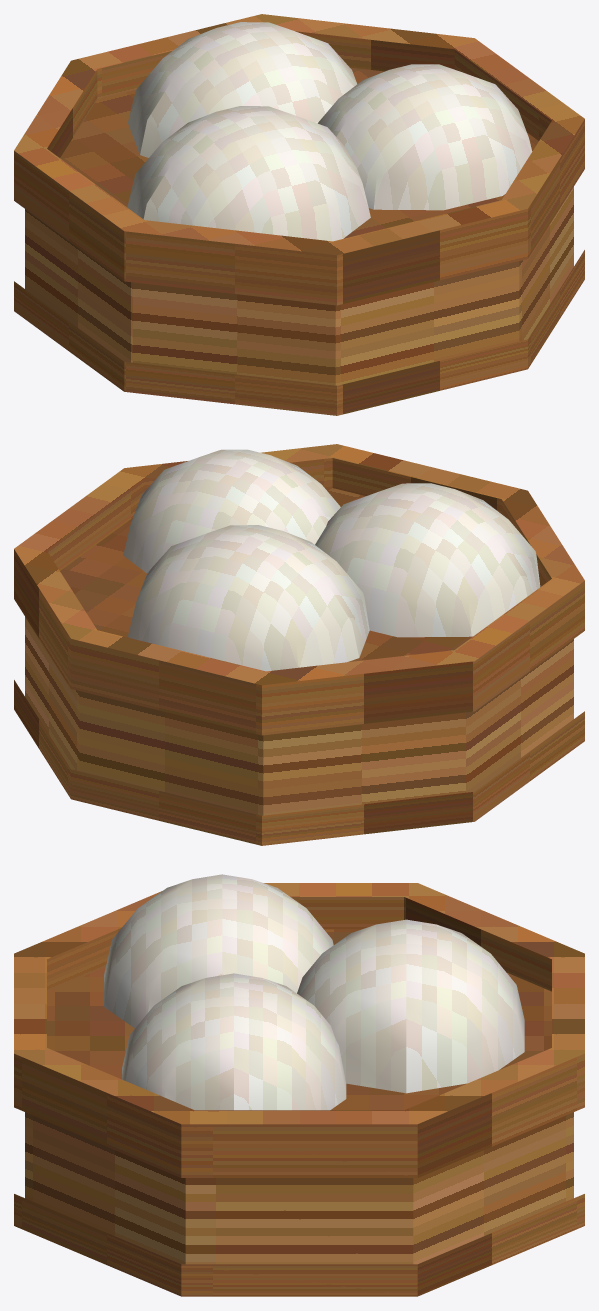
File: food_bao.glb
3 renders of one model, top to bottom at view 1: azimuth 30°, elevation 25°; view 2: azimuth 150°, elevation 25°; view 3: azimuth 270°, elevation 25°, orthographic. The views are drawn at different scales.
Parts seen in each view (by area): view 1: Food_Bao; view 2: Food_Bao; view 3: Food_Bao.
Boxes of the visible parts, box(x1,y1,x2,y2) form: Food_Bao: box(14, 14, 584, 415); Food_Bao: box(14, 444, 584, 845); Food_Bao: box(14, 874, 584, 1296).
Bounding box in the file's own units: 1 × 0.4683 × 1.
Materials: 1 (1 with a texture image).
